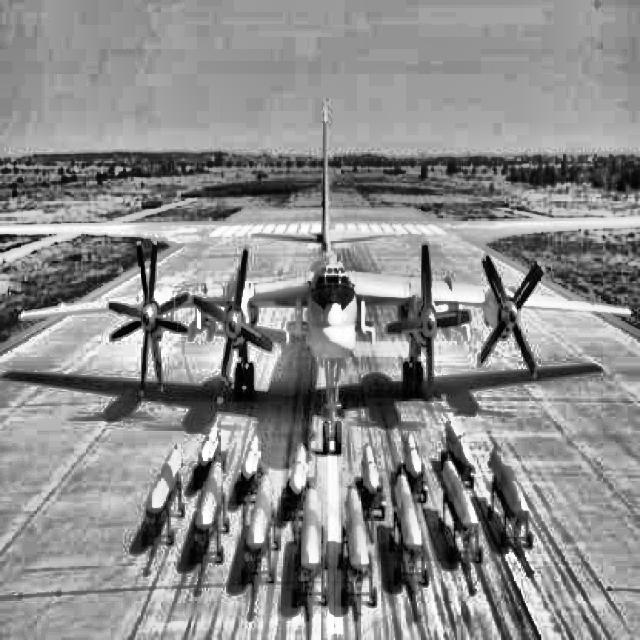Tu95: (18, 103, 633, 455)
